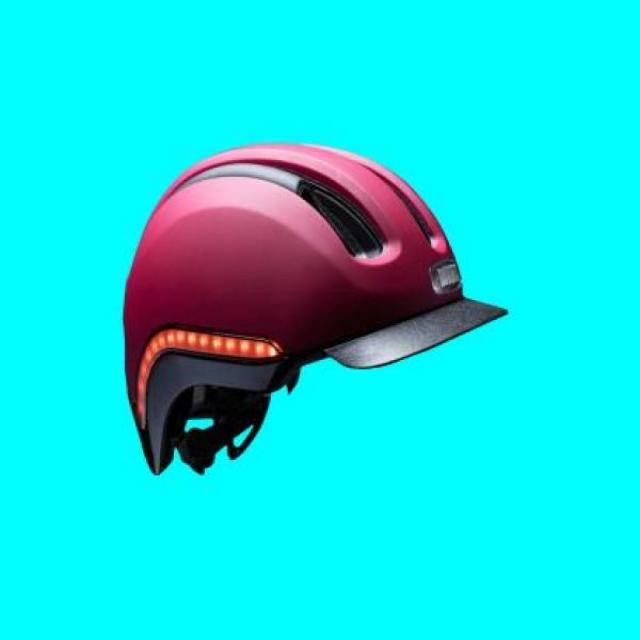Helmet: (125, 138, 487, 484)
